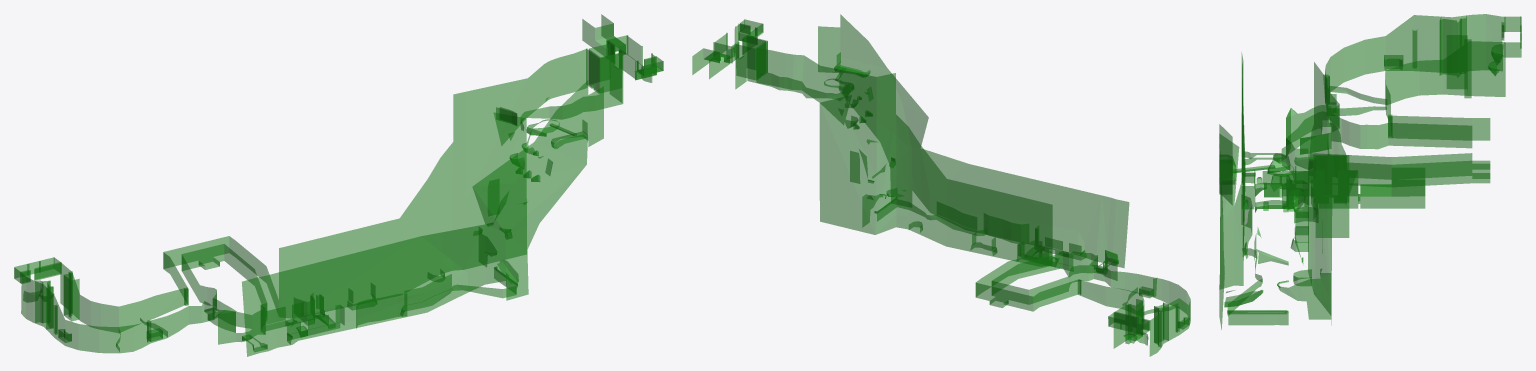
Rendered from wall3.obj.
3 views of the same model, side by side, from view 1: azimuth 30°, elevation 25°; view 2: azimuth 150°, elevation 25°; view 3: azimuth 270°, elevation 25° (orthographic). The views are drawn at different scales.
Size of the model in its own units: 378 by 133 by 135.
